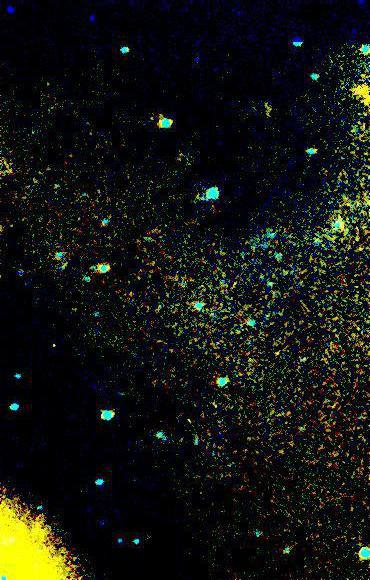star: (352, 80, 370, 110)
